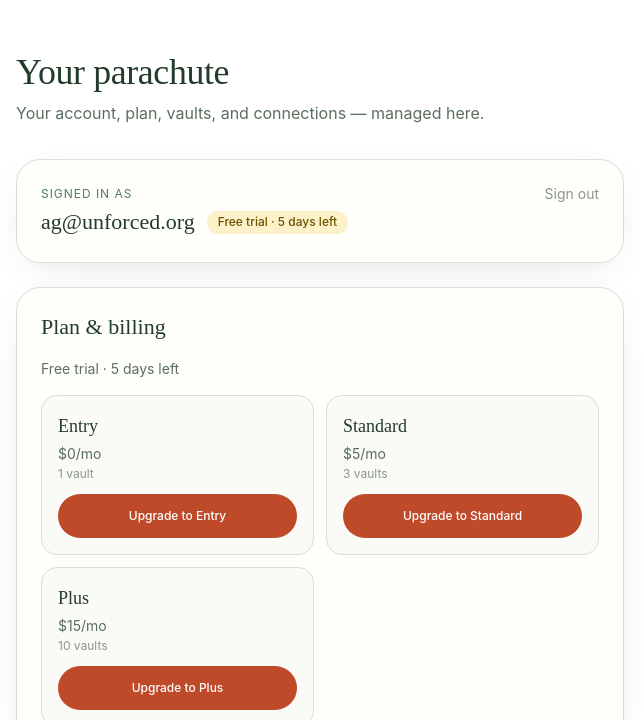
Account — 'Your parachute', the four-card manager home › Billing — Stripe-direct redirects › honest checkout-error copy › checkout 400 invalid_plan → 'not offered on this cycle', NEVER the outage line
The width and height of the screenshot is (641, 720).
Expected: the text "Entry" is shown, [58,412,98,440]
Click the button "Upgrade to Plus".
click(178, 688)  # box [58,666,297,710]
(page scrolled)
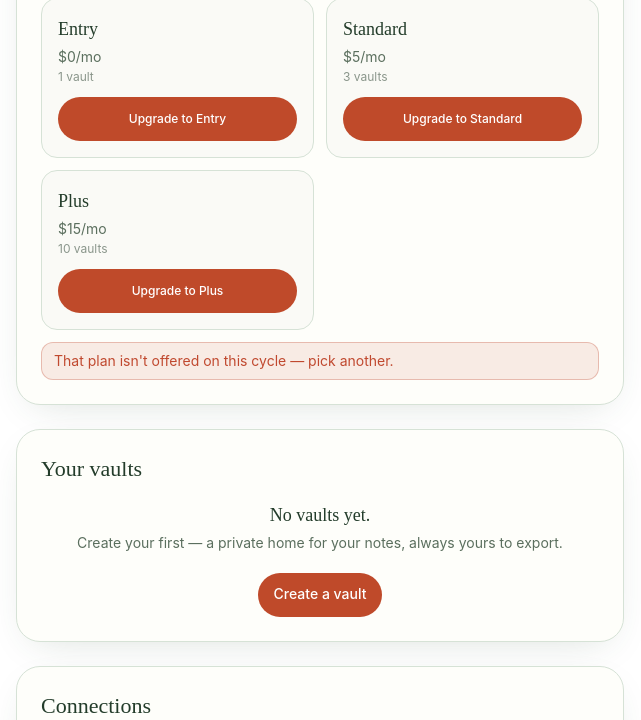
Result: the text "That plan isn't offered on this cycle — pick another." is shown at [41,342,599,380]
